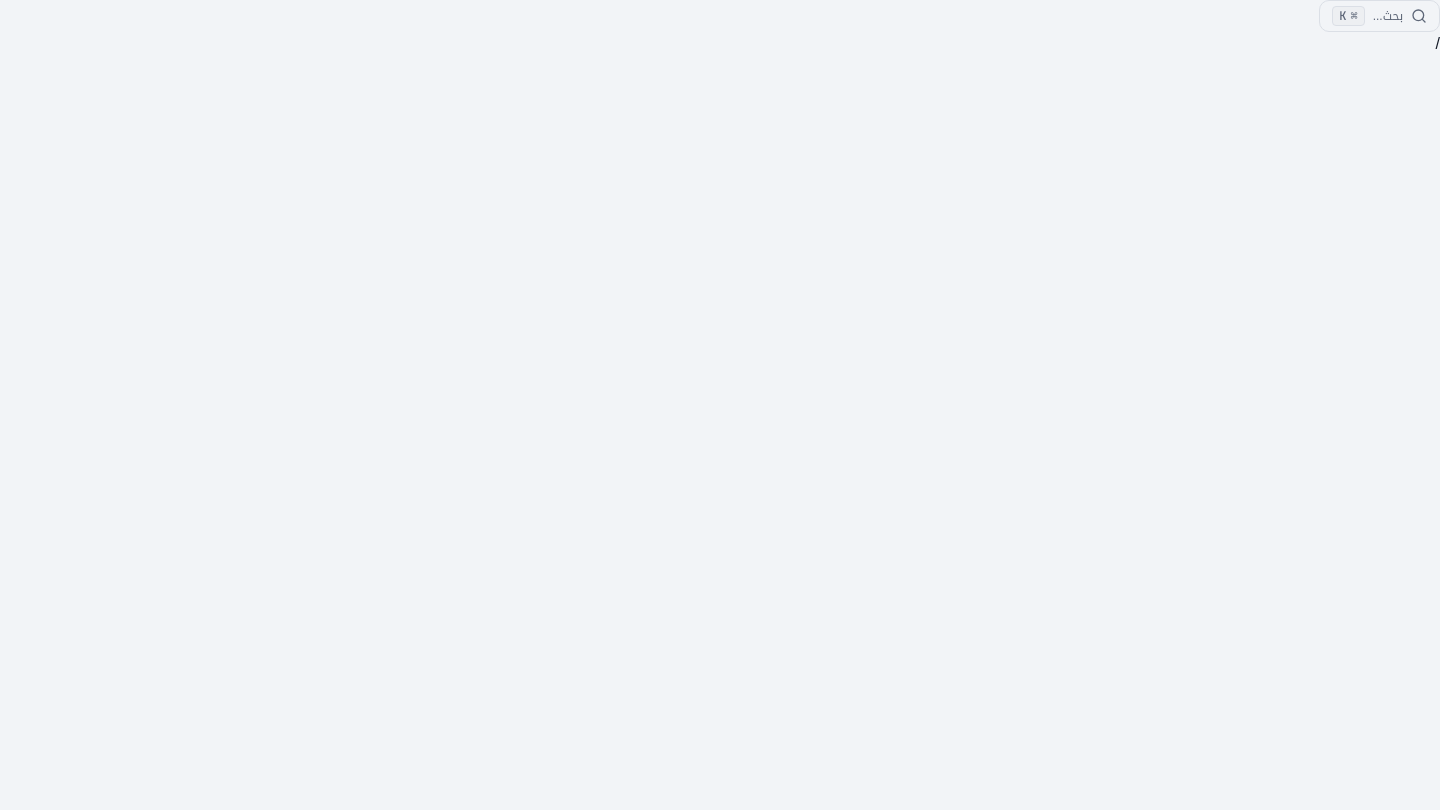
Test: GlobalSearch on desktop › narrows the groups as one types, shows the empty state, and navigates on a choice
Press k
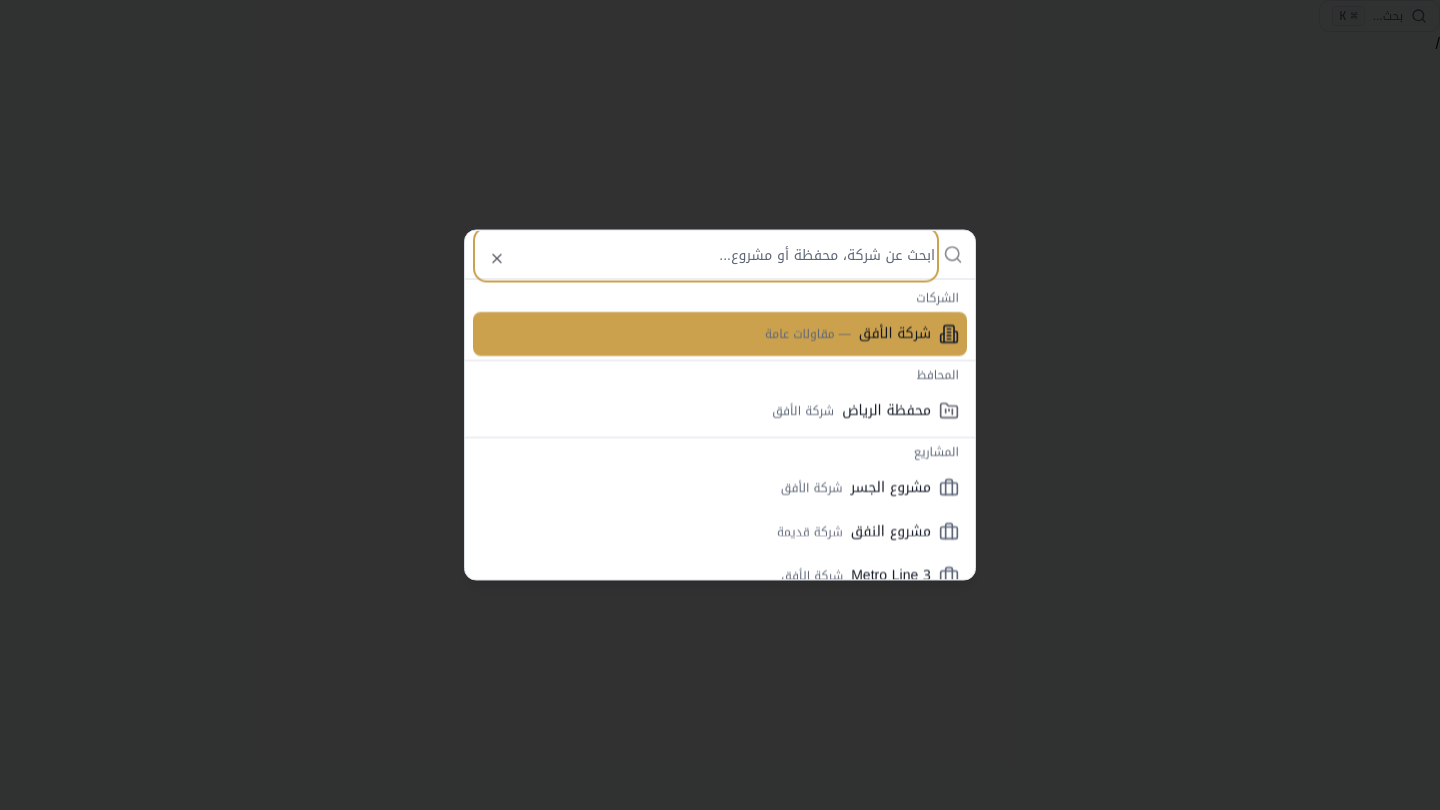
Type "النفق" into the dropdown with placeholder "ابحث عن شركة، محفظة أو مشروع..." at (706, 254), box [477,230,935,278]
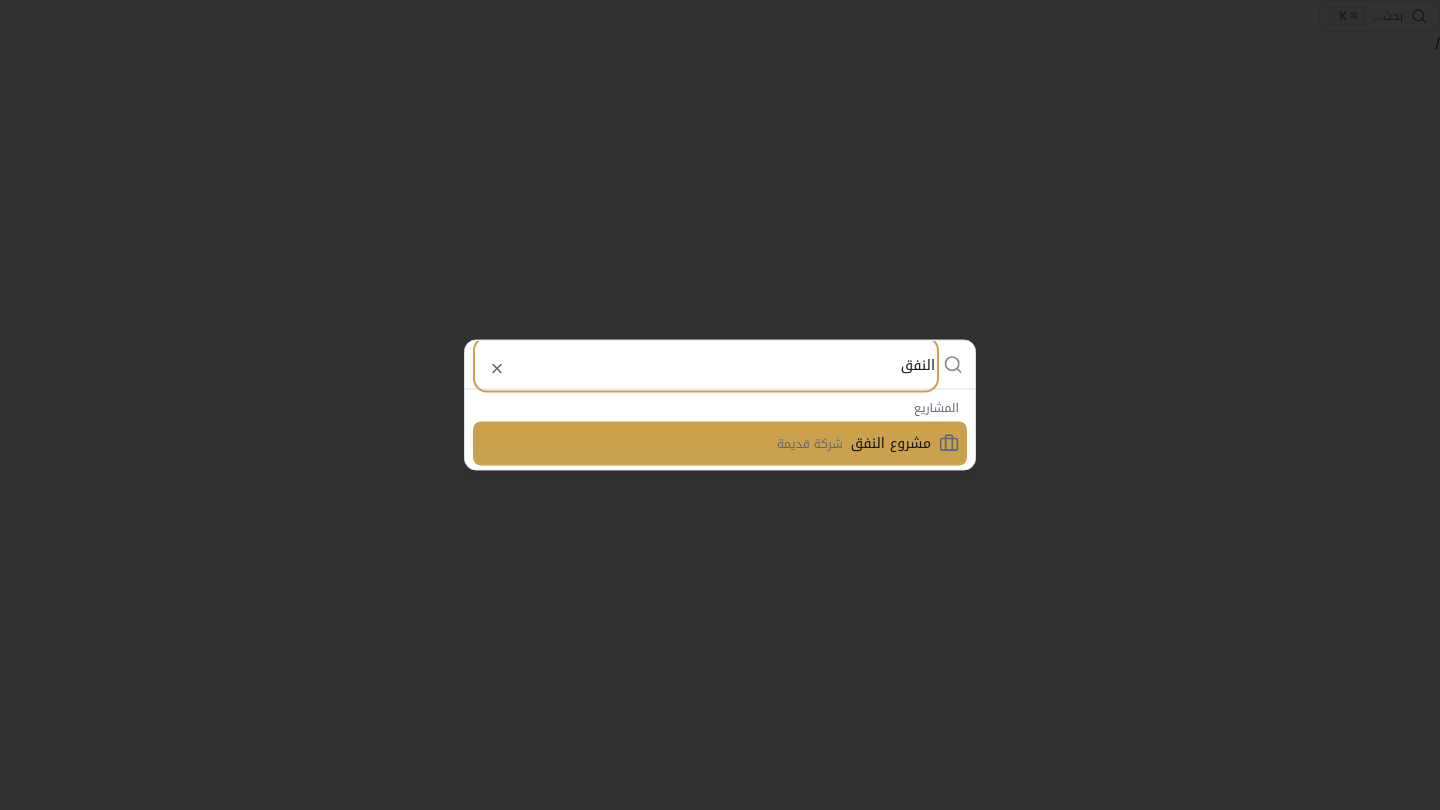
Result: the text "المشاريع" is shown at [914,396,959,418]
Result: the text "الشركات" is gone
Replace the text in the dropdown with "لا شيء هنا" at (706, 364), box [477,340,935,388]
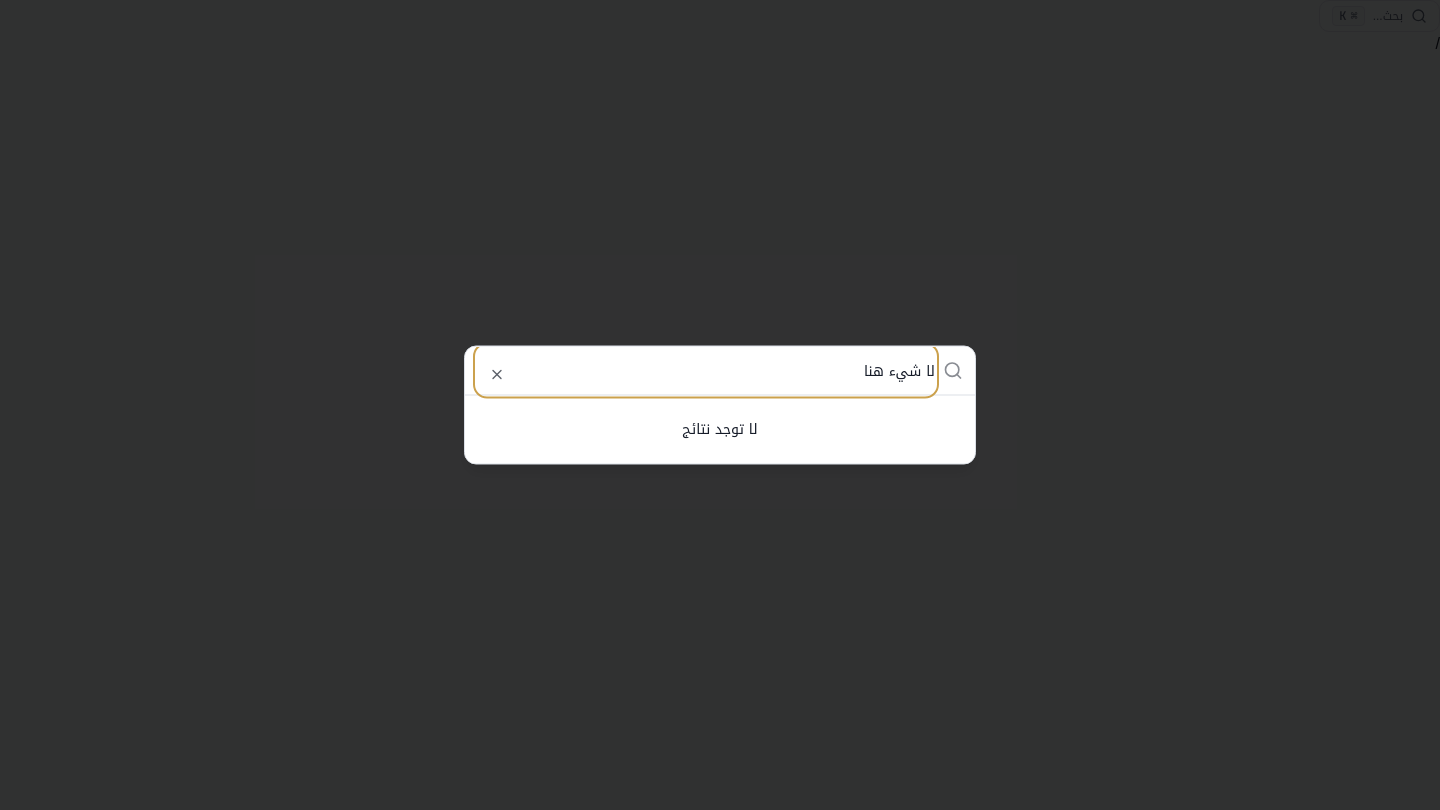
Result: the text "لا توجد نتائج" is shown at [682,416,758,442]
Replace the text in the dropdown with "النفق" at (706, 370), box [477,346,935,394]
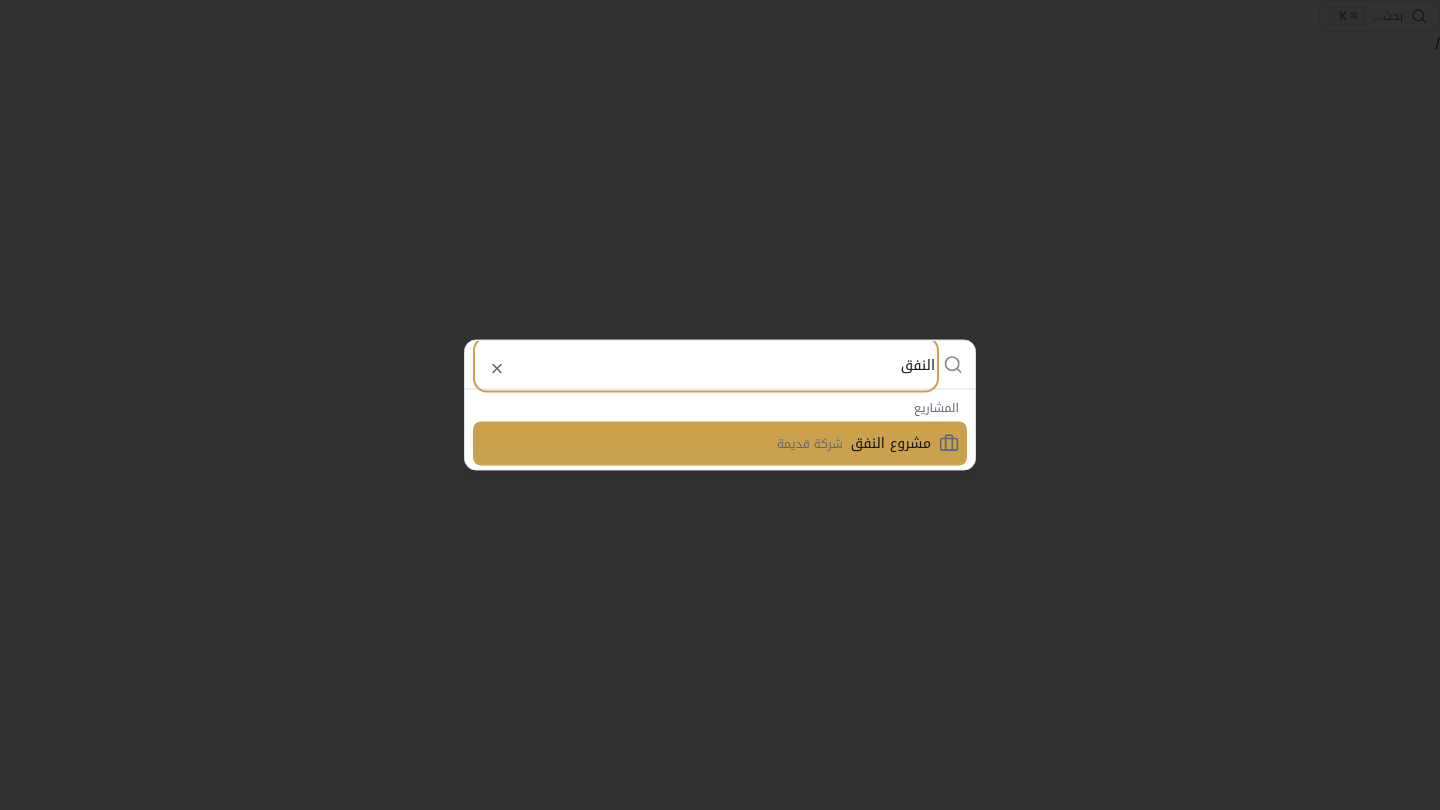
Click the text "مشروع النفق" at (891, 444), box [851,434,931,454]
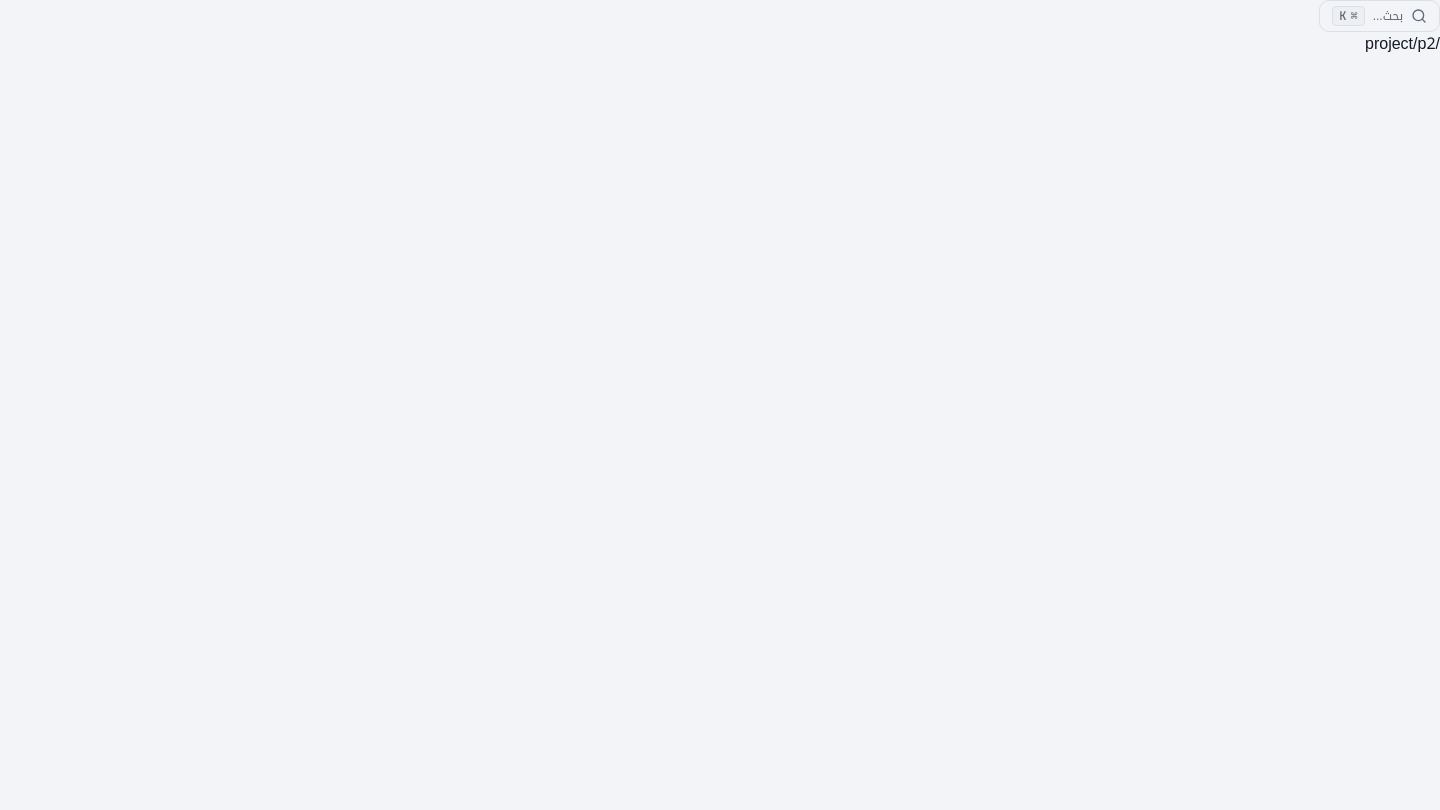
Result: the text with test id "path" reads "/project/p2" at [1365,28,1439,59]
Result: the dialog is gone
